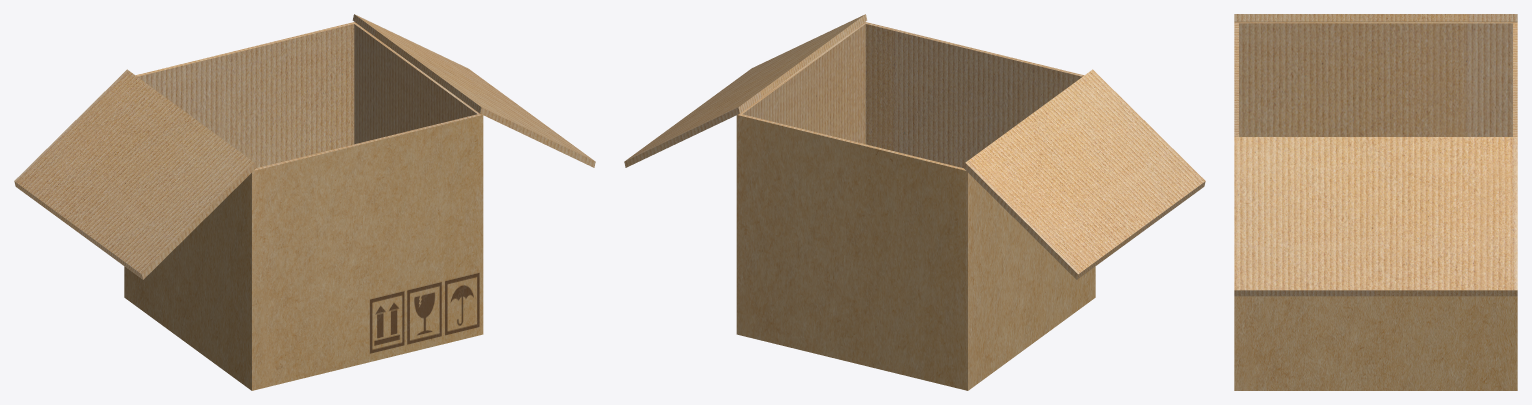
File: LargeSmallNew.fbx
3 views of the same model, side by side, from view 1: azimuth 30°, elevation 25°; view 2: azimuth 150°, elevation 25°; view 3: azimuth 270°, elevation 25° (orthographic). The views are drawn at different scales.
Visible parts, largest first — view 1: Large_Small_Open_Box, Large_Small_Open_Box.002, Large_Small_Open_Box.001; view 2: Large_Small_Open_Box, Large_Small_Open_Box.002, Large_Small_Open_Box.001; view 3: Large_Small_Open_Box, Large_Small_Open_Box.001, Large_Small_Open_Box.002.
Boxes of the visible parts, bbox=[...] form: Large_Small_Open_Box: bbox=[124, 22, 483, 390]; Large_Small_Open_Box.002: bbox=[14, 69, 255, 279]; Large_Small_Open_Box.001: bbox=[352, 14, 595, 167]; Large_Small_Open_Box: bbox=[736, 22, 1095, 390]; Large_Small_Open_Box.002: bbox=[964, 69, 1205, 279]; Large_Small_Open_Box.001: bbox=[624, 14, 867, 167]; Large_Small_Open_Box: bbox=[1234, 22, 1517, 390]; Large_Small_Open_Box.001: bbox=[1234, 137, 1517, 296]; Large_Small_Open_Box.002: bbox=[1234, 14, 1517, 22].
Size of the model in its own units: 2 by 0.9568 by 0.9711.
